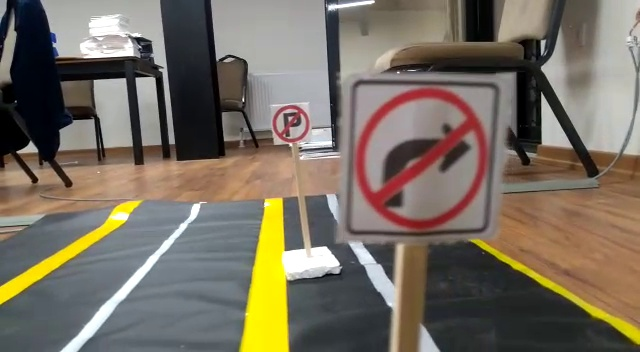park_yapilmaz: (270, 103, 312, 146)
saga_donulmez: (348, 76, 495, 235)
